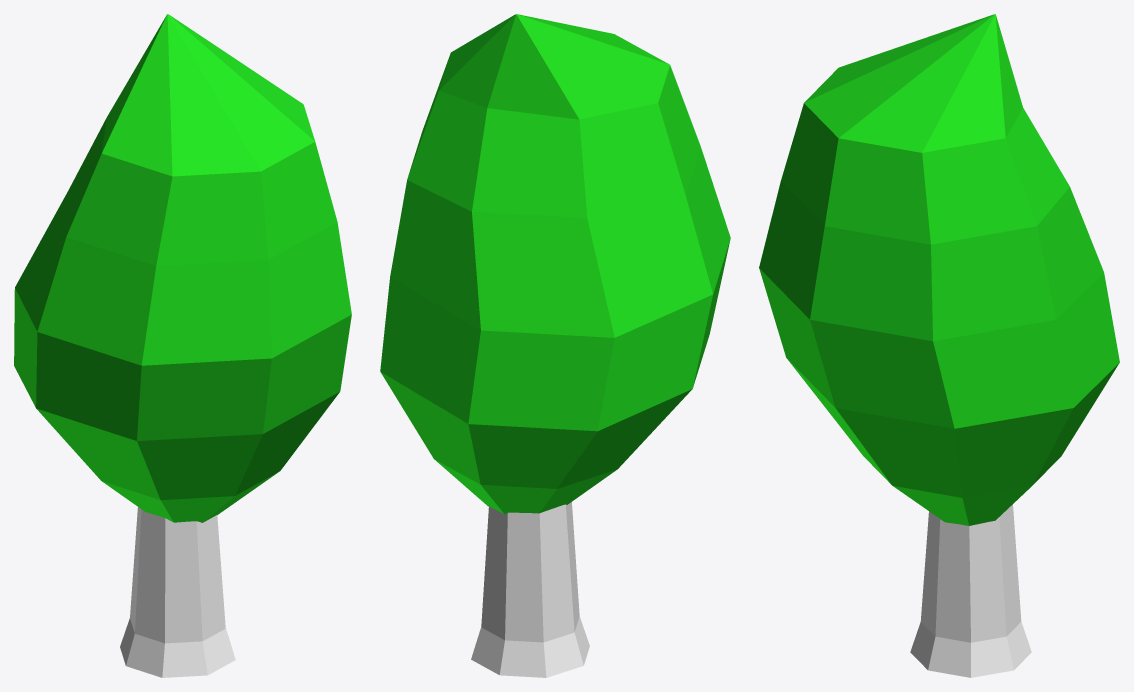
The model's file is decidiousTree01.glb.
3 renders of one model, left to right at view 1: azimuth 30°, elevation 25°; view 2: azimuth 150°, elevation 25°; view 3: azimuth 270°, elevation 25°, orthographic. The views are drawn at different scales.
Visible parts, largest first — view 1: Cylinder.001, Cylinder; view 2: Cylinder.001, Cylinder; view 3: Cylinder.001, Cylinder.
Boxes of the visible parts, x1,y1,x2,y2 form: Cylinder.001: (14,14,351,522); Cylinder: (120,14,235,677); Cylinder.001: (380,14,730,514); Cylinder: (471,14,589,677); Cylinder.001: (759,14,1119,525); Cylinder: (910,14,1031,677).
Bounding box in the file's own units: 6.92 × 14.01 × 7.18.
